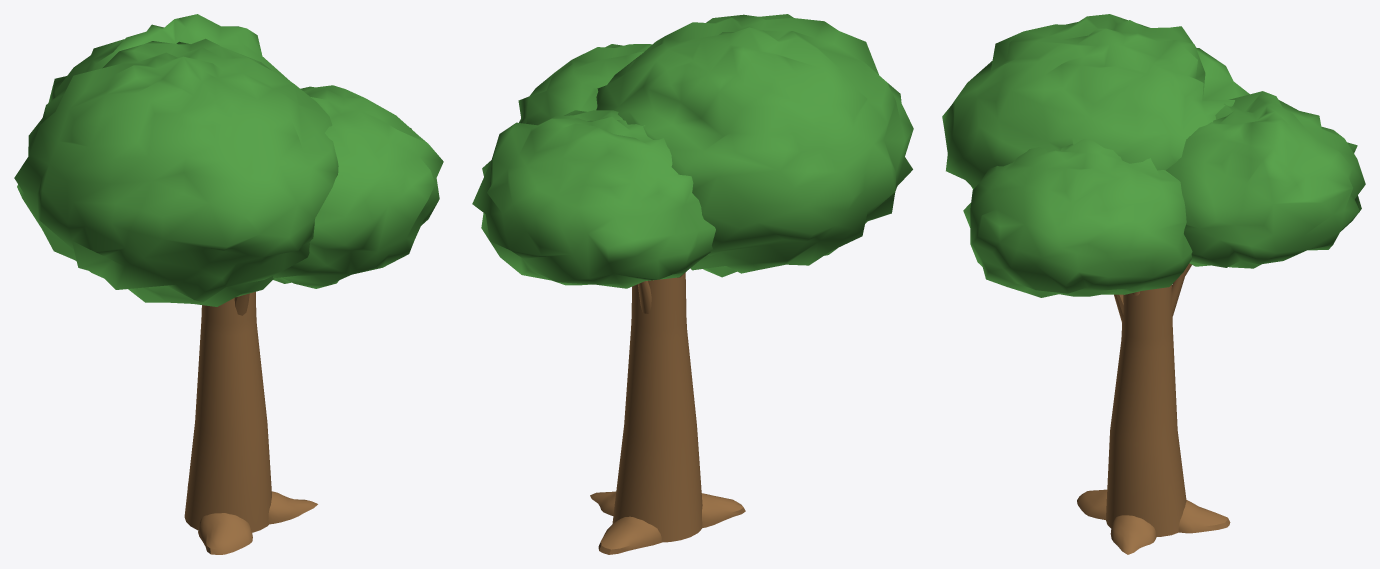
The model's file is tree.fbx.
3 views of the same model, side by side, from view 1: azimuth 30°, elevation 25°; view 2: azimuth 150°, elevation 25°; view 3: azimuth 270°, elevation 25° (orthographic). The views are drawn at different scales.
Parts seen in each view (by area): view 1: Tree; view 2: Tree; view 3: Tree.
Part boxes in pixels (<box>): Tree: <box>14,14,443,554</box>; Tree: <box>472,14,913,554</box>; Tree: <box>942,14,1365,554</box>.
Size of the model in its own units: 1110 by 1399 by 1166.
